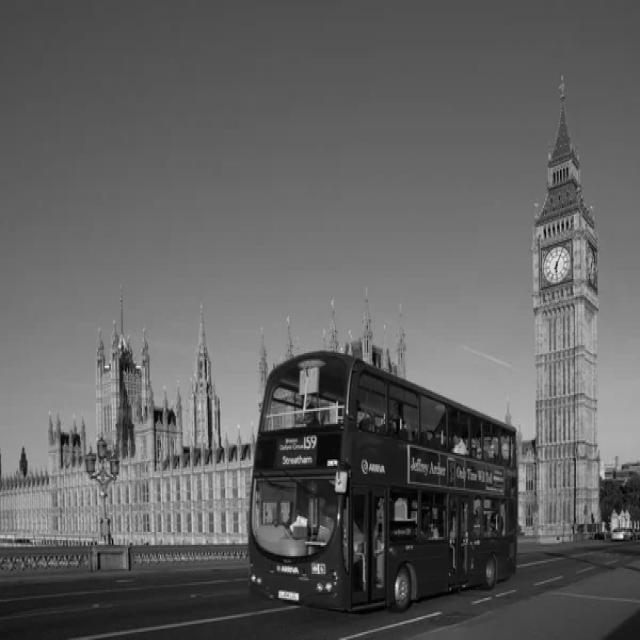Bus: (248, 351, 520, 612)
